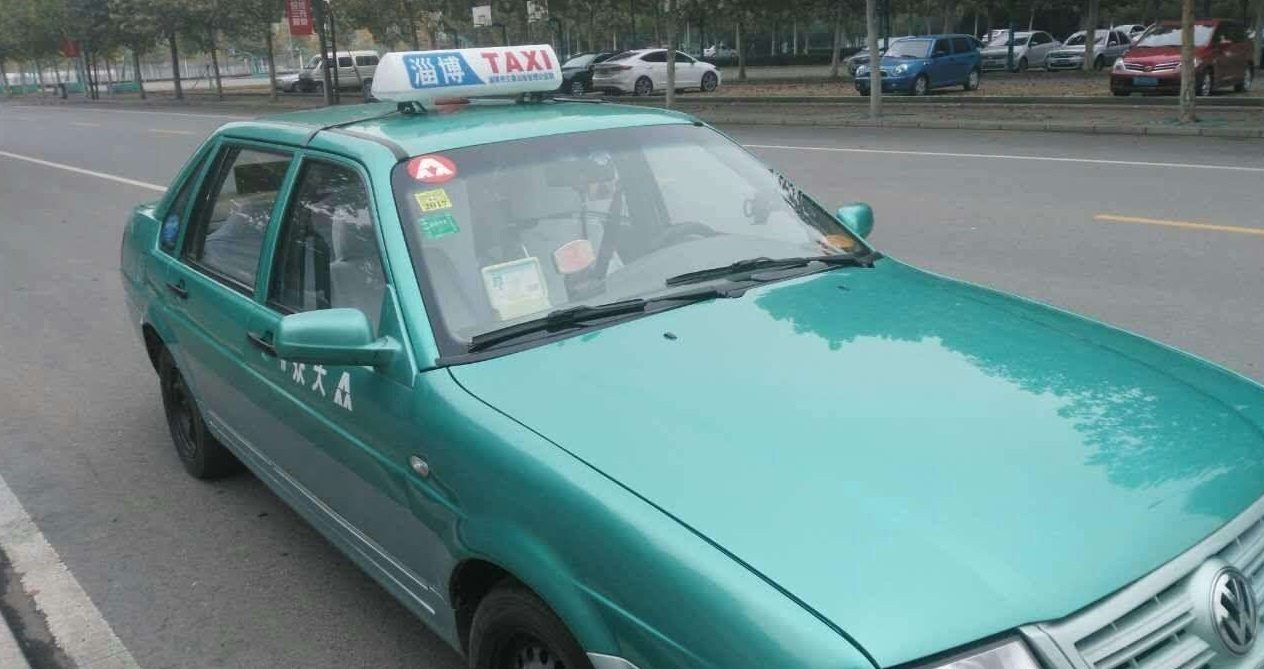taxi: (123, 38, 1264, 666)
